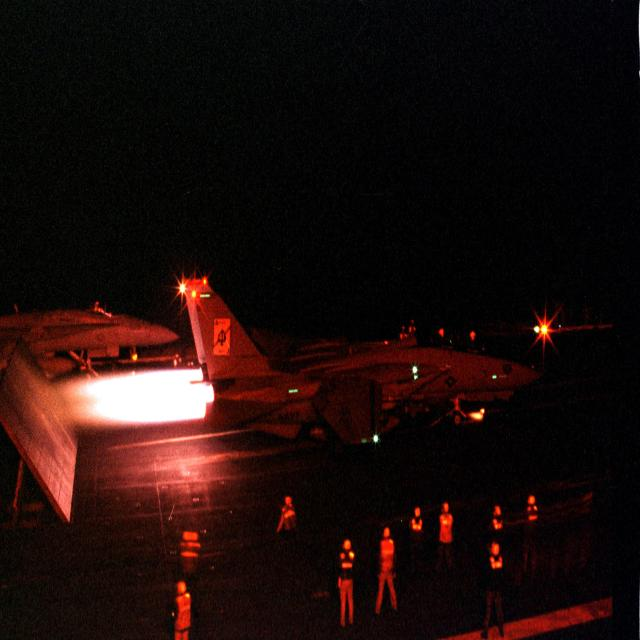MIL_Plane: (181, 277, 544, 465), (0, 301, 180, 385)
